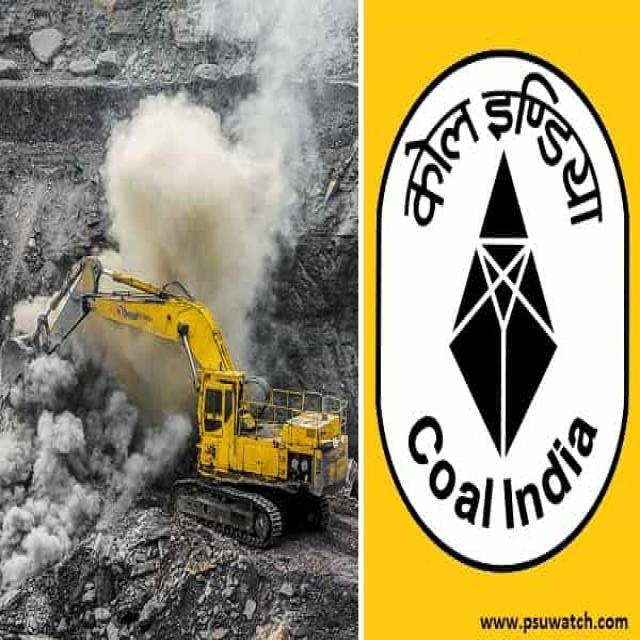excavator: (9, 254, 352, 548)
